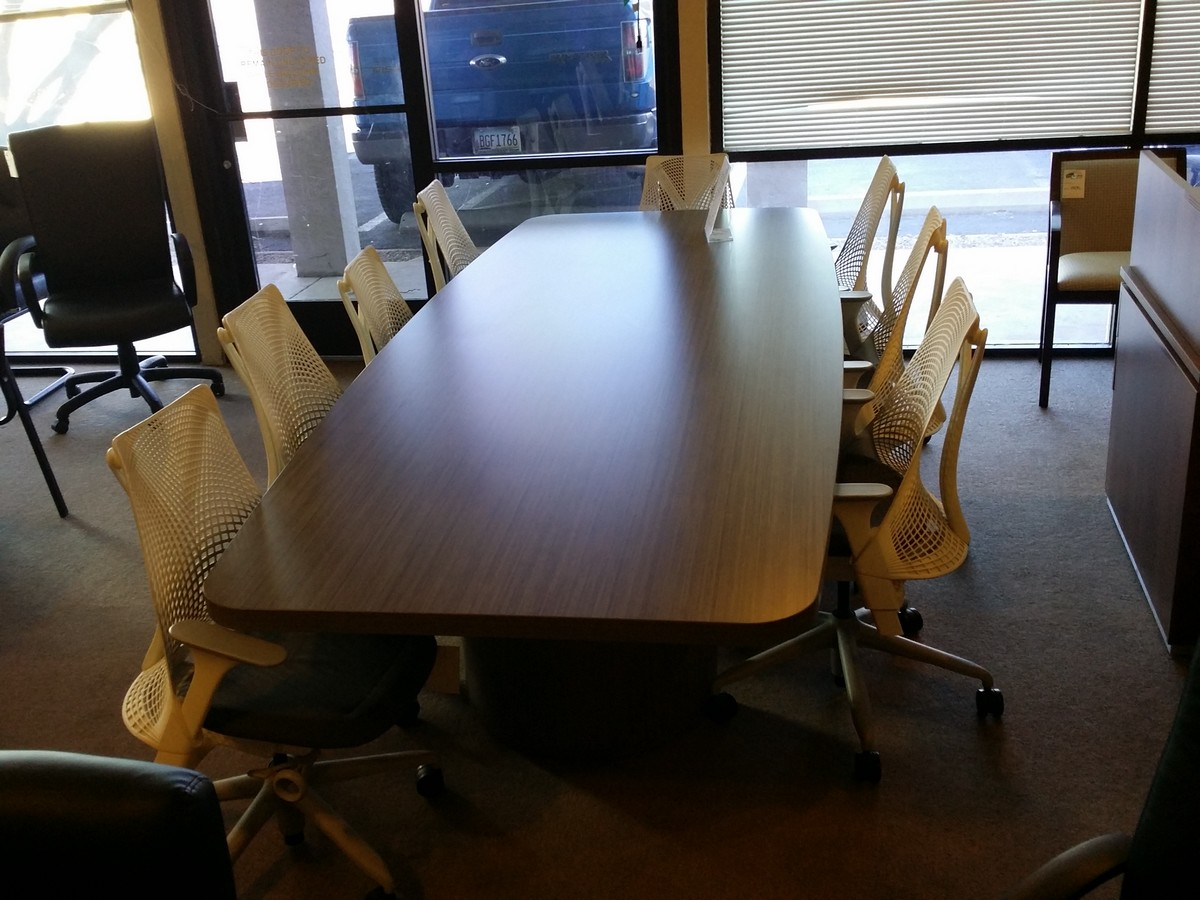conference_table: (204, 207, 844, 735)
